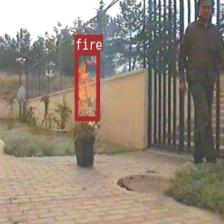fire: (75, 50, 99, 119)
